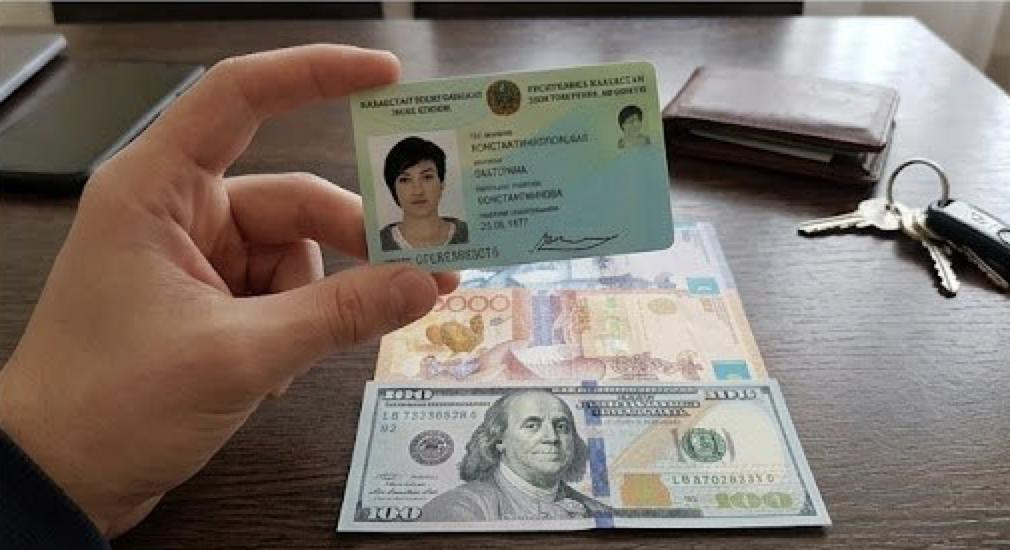cash_stack: (337, 379, 825, 535), (377, 284, 781, 385), (457, 227, 738, 294)
document: (344, 63, 677, 270)
